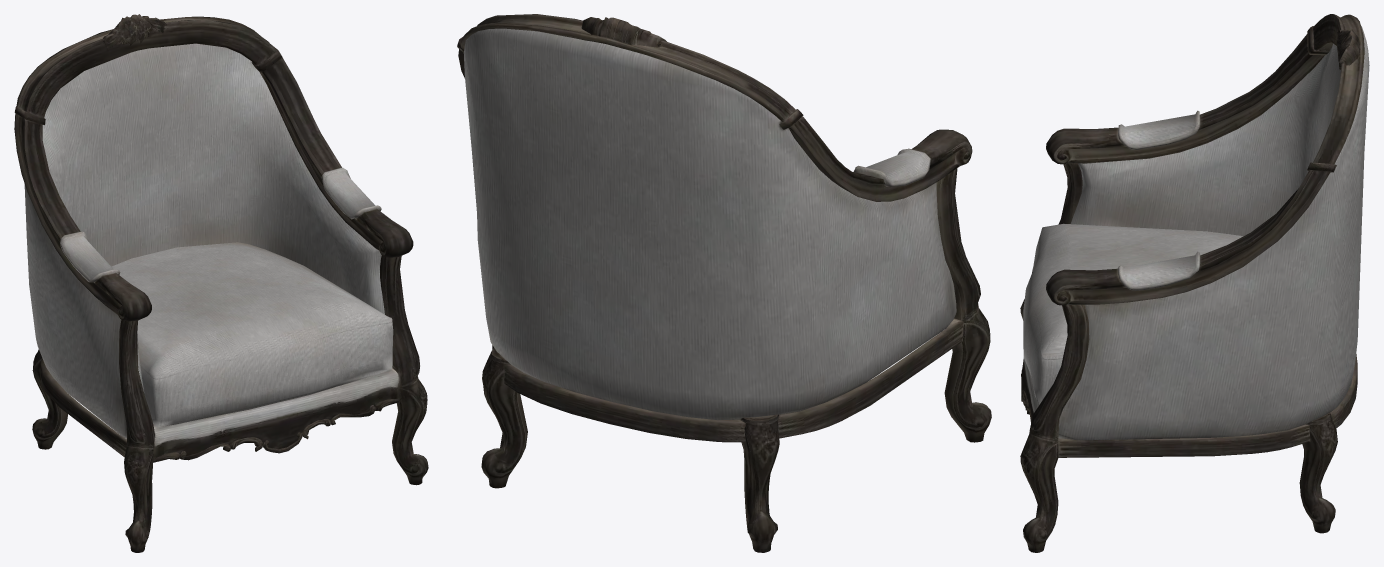
Rendered from ArmChair_01.glb.
3 views of the same model, side by side, from view 1: azimuth 30°, elevation 25°; view 2: azimuth 150°, elevation 25°; view 3: azimuth 270°, elevation 25° (orthographic). The views are drawn at different scales.
Visible parts, largest first — view 1: ArmChair_01; view 2: ArmChair_01; view 3: ArmChair_01.
Part boxes in pixels (<box>): ArmChair_01: <box>14,14,428,552</box>; ArmChair_01: <box>457,14,991,552</box>; ArmChair_01: <box>1020,14,1369,552</box>.
Size of the model in its own units: 0.8483 by 1.06 by 0.7658.
1 material, 1 textured.
